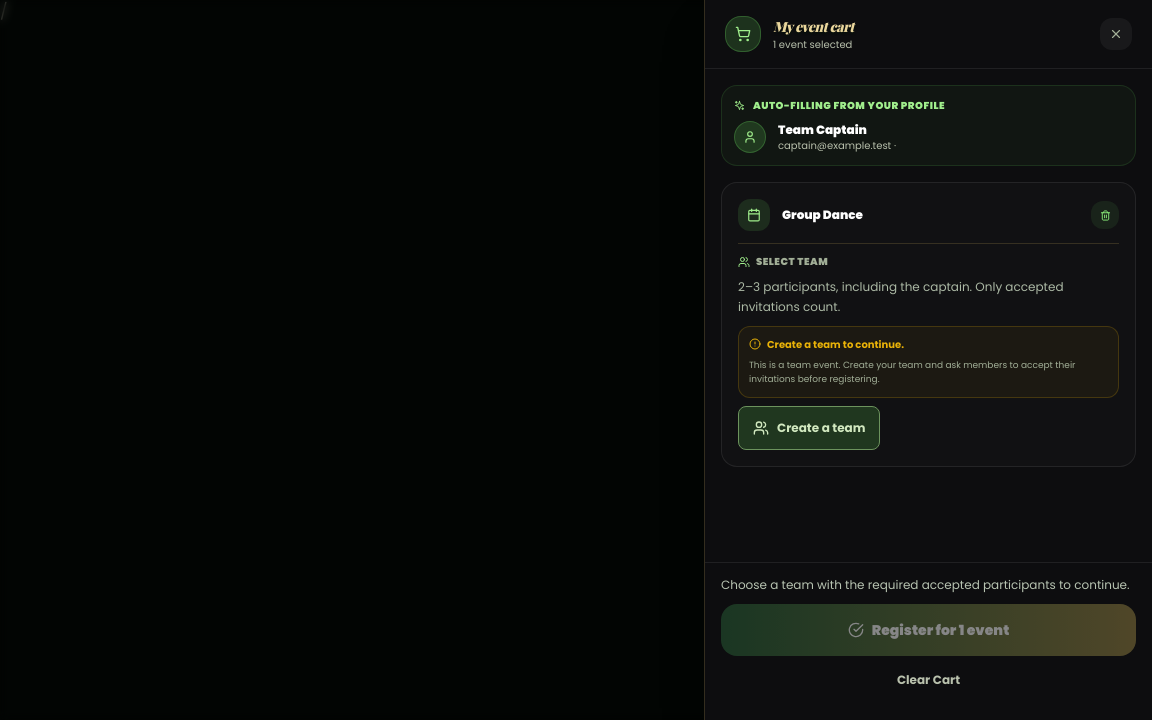
Scenario: blocks missing-team checkout and opens Create team without losing the cart
Expected: the button "Register for 1 event" is disabled, [721,604,1136,656]
Click the button "Create a team".
click(809, 428)  # box [738,406,880,450]
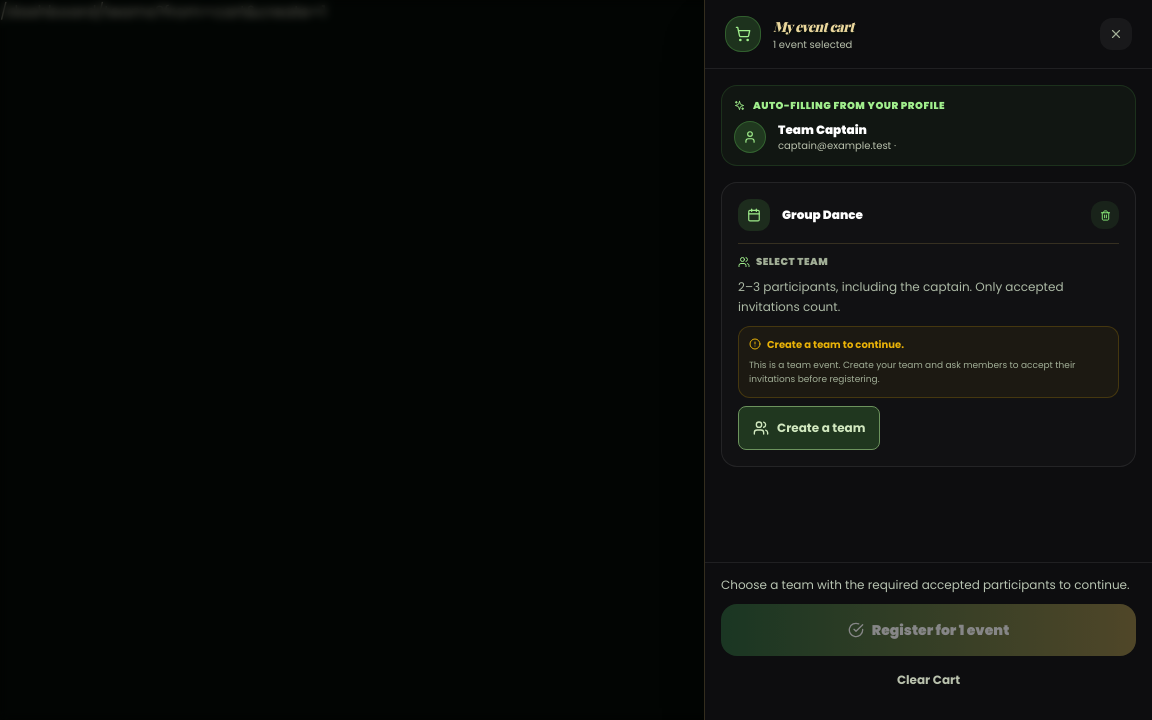
Expected: the text "/dashboard/teams?from=cart&create=1" is shown, [0,0,326,23]
